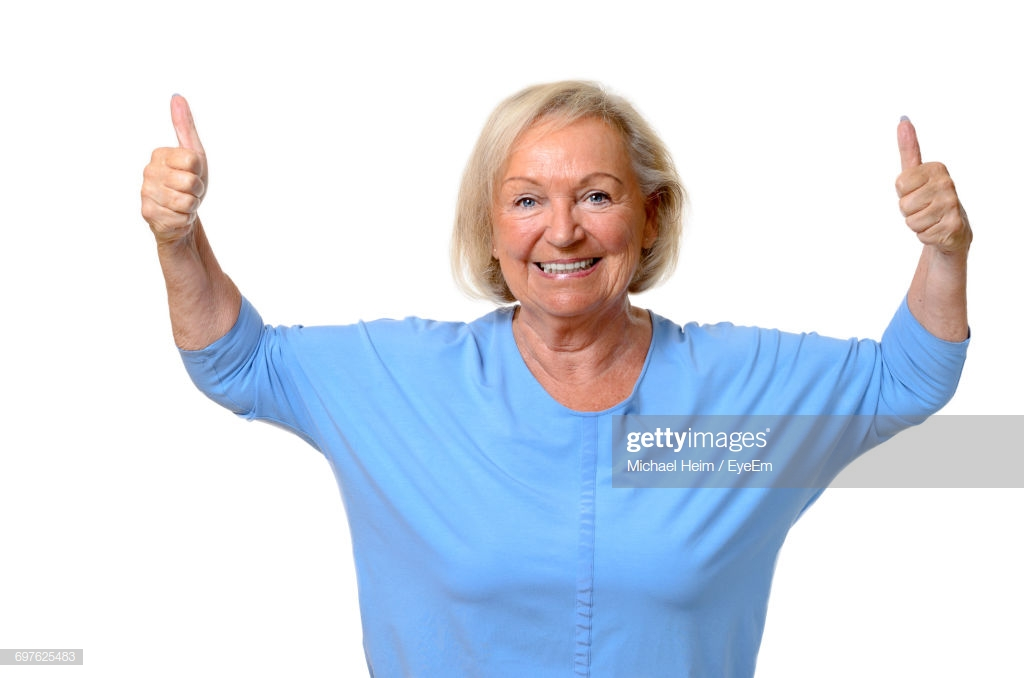thumbsup: (140, 93, 205, 232), (895, 115, 963, 246)
